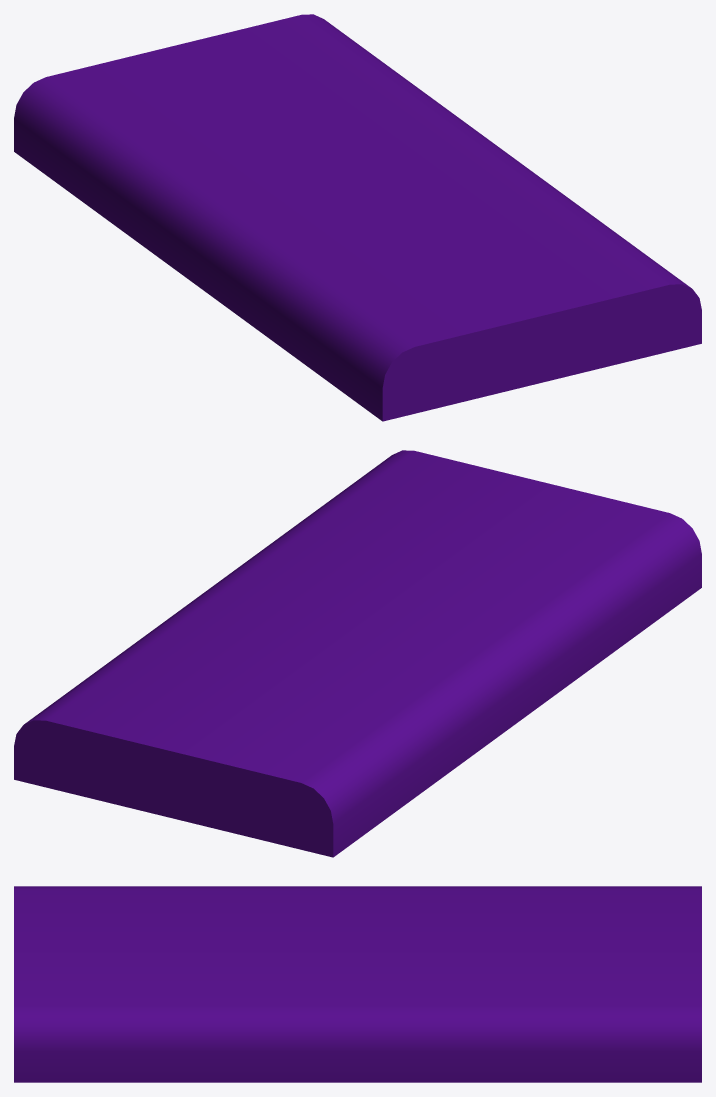
The model's file is base_catwalk_long.fbx.
The picture shows the model from 3 angles, top to bottom: view 1: azimuth 30°, elevation 25°; view 2: azimuth 150°, elevation 25°; view 3: azimuth 270°, elevation 25°; orthographic projection. The views are drawn at different scales.
Parts seen in each view (by area): view 1: Cube.008; view 2: Cube.008; view 3: Cube.008.
Boxes of the visible parts, bbox=[...] form: Cube.008: bbox=[14, 14, 701, 421]; Cube.008: bbox=[14, 450, 701, 857]; Cube.008: bbox=[14, 886, 701, 1082].
Size of the model in its own units: 20 by 4 by 40.
